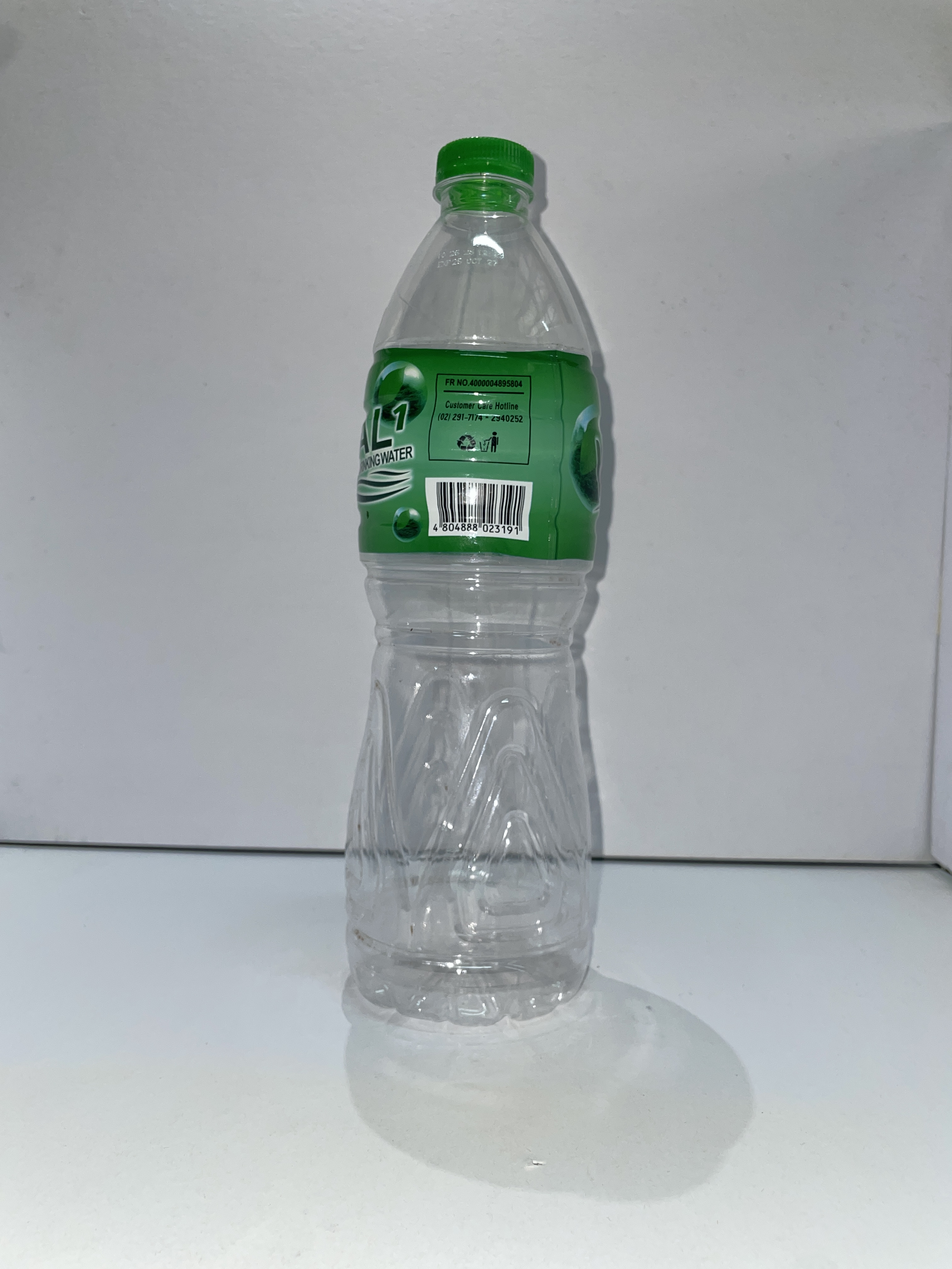Vital 1000ml: (346, 138, 602, 1024)
